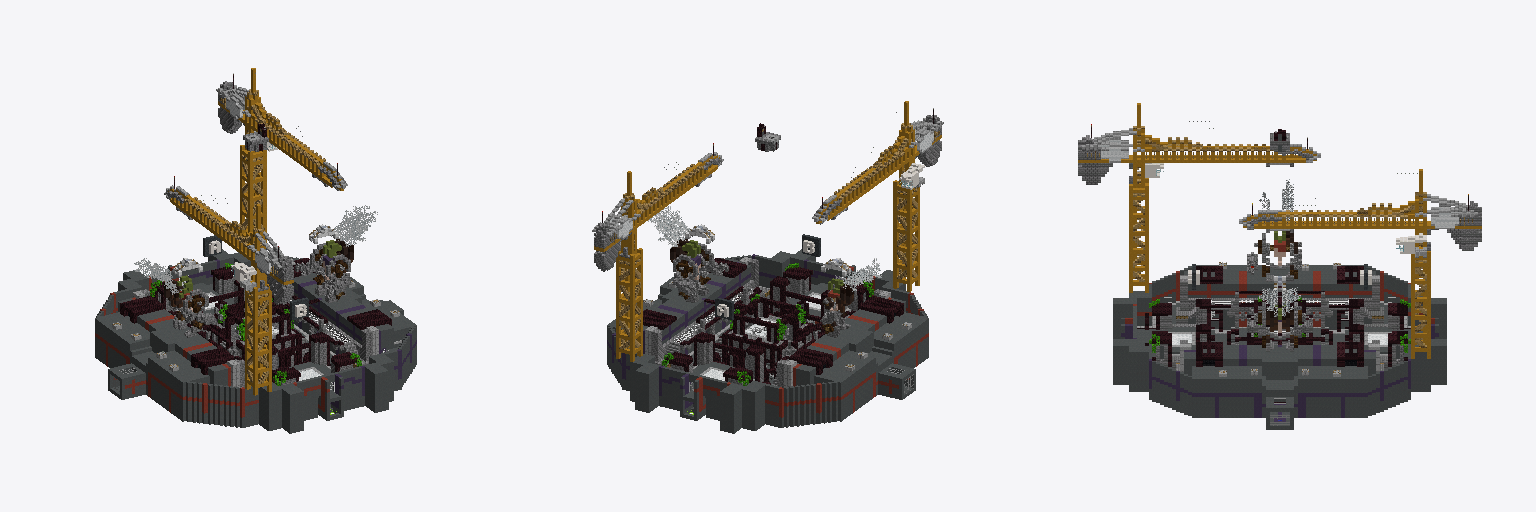
3 views of the same model, side by side, from view 1: azimuth 30°, elevation 25°; view 2: azimuth 150°, elevation 25°; view 3: azimuth 270°, elevation 25° (orthographic).
Size of the model in its own units: 83 by 73 by 103.
52 materials, 51 textured.